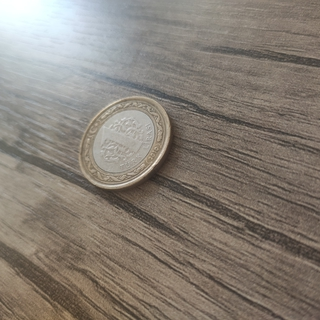1TL: (76, 93, 174, 193)
